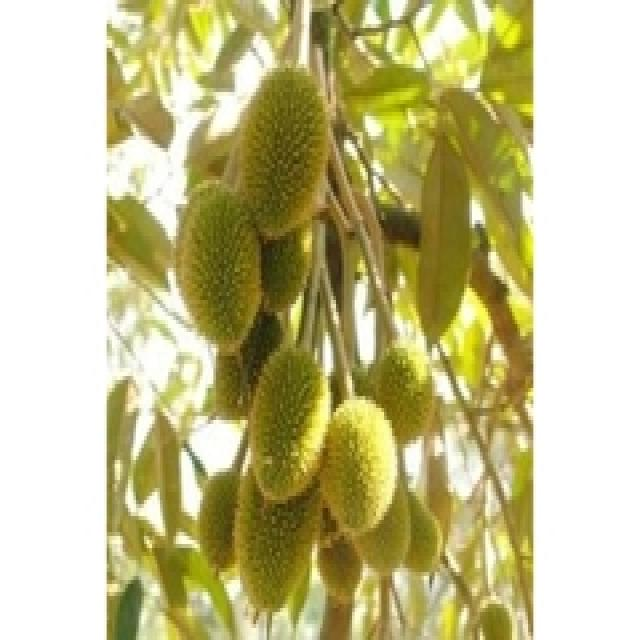immature: (233, 64, 332, 248), (177, 182, 263, 356), (236, 467, 323, 619), (248, 343, 329, 506), (317, 394, 398, 538), (368, 340, 433, 446), (196, 466, 245, 576)
